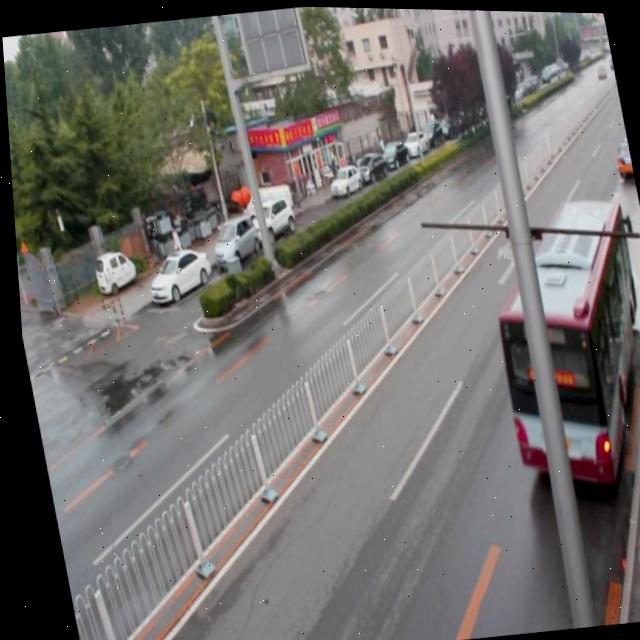car: (608, 134, 632, 177)
van: (468, 191, 640, 491)
